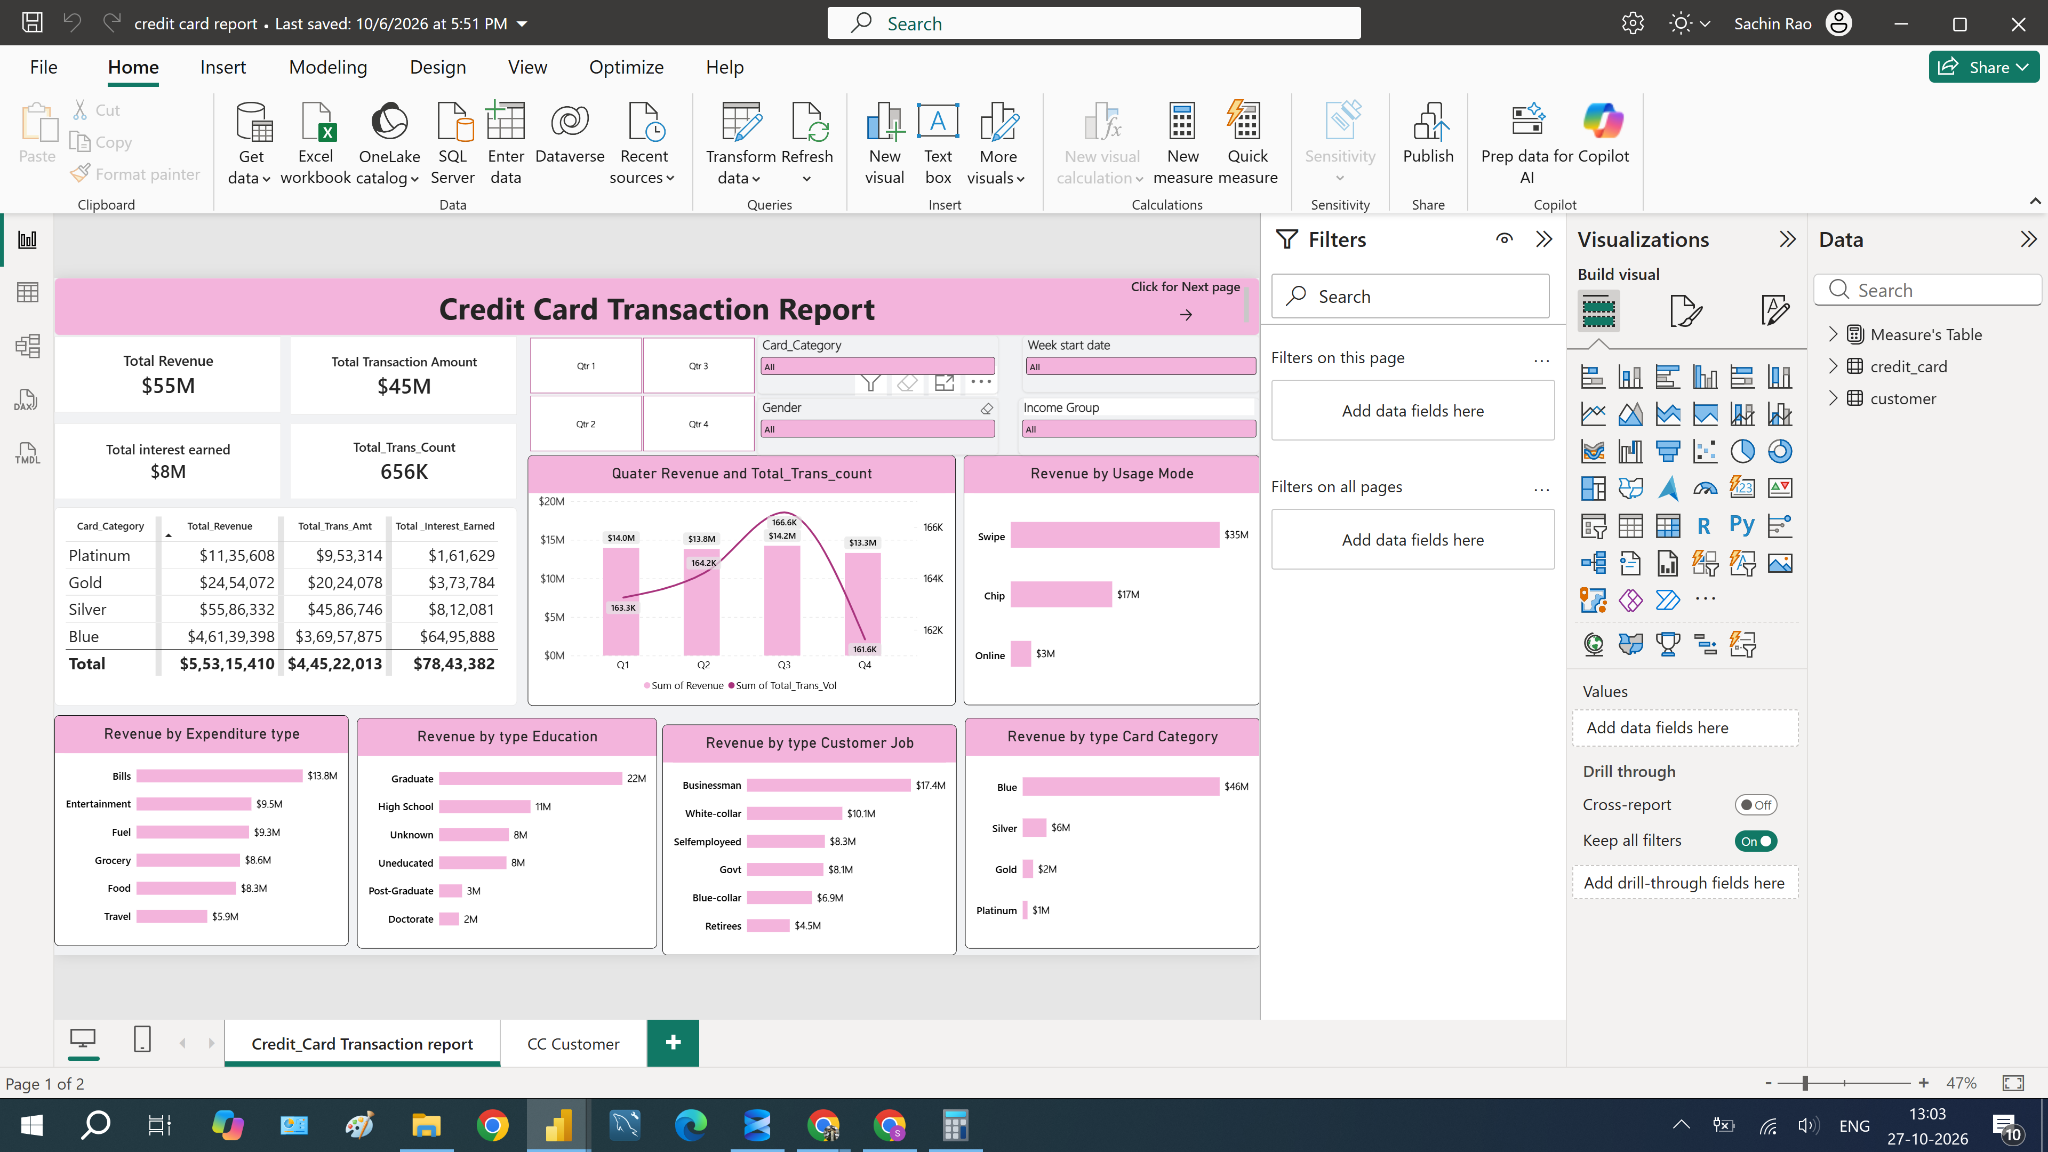

This screenshot's page, from the dashboard's own definition file:
{"tool":"powerbi","page":{"name":"Credit_Card Transaction report","canvas":[1920,1080],"ordinal":0},"visuals":[{"type":"textbox","box":[0,0,1920.5,91.8],"z":0},{"type":"group","id":"g1","title":"Group 7","box":[1120.1,191.3,800.4,91.3],"z":0,"group":"g7"},{"type":"cardVisual","title":"Total Revenue","fields":{"Data":["Sum(credit_card.Interest_Earned)"]},"box":[0,231.6,361,121],"z":0,"group":"g5"},{"type":"barChart","title":"Revenue by Expenditure type","fields":{"Category":["credit_card.Exp Type"],"Y":["Sum(credit_card.Revenue)"]},"box":[0,696,468.9,367.6],"z":0,"group":"g6"},{"type":"group","id":"g2","title":"Group 6","box":[1120.1,91.3,800.4,93.5],"z":1000,"group":"g7"},{"type":"slicer","fields":{"Values":["credit_card.Card_Category"]},"box":[1120.1,91.3,385,93.5],"z":1000,"group":"g2"},{"type":"cardVisual","title":"Total Revenue","fields":{"Data":["Sum(credit_card.Revenue)"]},"box":[0,93.6,361,121],"z":1000,"group":"g4"},{"type":"lineStackedColumnComboChart","title":"Quater Revenue and  Total_Trans_count","fields":{"Category":["credit_card.Qtr"],"Y":["Sum(credit_card.Revenue)"],"Y2":["Sum(credit_card.Total_Trans_Vol)"]},"box":[754.2,282.5,681.9,399.4],"z":1000},{"type":"barChart","title":" Revenue by type Education ","fields":{"Category":["customer.Education_Level"],"Y":["Sum(credit_card.Revenue)"]},"box":[482.2,700.2,478,367.5],"z":1000,"group":"g6"},{"type":"cardVisual","fields":{"Data":["Sum(credit_card.Total_Trans_Vol)"]},"box":[376,231.6,361,121],"z":2000,"group":"g5"},{"type":"group","id":"g3","title":"Group 1","box":[0,696,1919.7,382.4],"z":2000},{"type":"barChart","title":"Revenue by type Customer Job","fields":{"Category":["customer.Customer_Job"],"Y":["Sum(credit_card.Revenue)"]},"box":[968.7,710.8,468.9,367.6],"z":2000,"group":"g6"},{"type":"cardVisual","fields":{"Data":["Sum(credit_card.Total_Trans_Amt)"]},"box":[376,93.5,361.1,125.3],"z":3000,"group":"g4"},{"type":"slicer","fields":{"Values":["customer.Income Group"]},"box":[1535.5,191.3,385,91.3],"z":3000,"group":"g1"},{"type":"barChart","title":"Revenue by Usage Mode","fields":{"Category":["credit_card.Use Chip"],"Y":["Sum(credit_card.Revenue)"]},"box":[1448.8,282.5,472,398.4],"z":3000},{"type":"barChart","title":"Revenue by type Card Category","fields":{"Category":["credit_card.Card_Category"],"Y":["Sum(credit_card.Revenue)"]},"box":[1449.9,700.4,469.7,367.6],"z":3000,"group":"g6"},{"type":"tableEx","fields":{"Values":["credit_card.Card_Category","Sum(credit_card.Revenue)","Sum(credit_card.Total_Trans_Amt)","Sum(credit_card.Interest_Earned)"]},"box":[0,365.4,737.2,316.5],"z":4000},{"type":"group","id":"g4","title":"Group 2","box":[0,93.5,737.2,125.3],"z":4001,"group":"g5"},{"type":"group","id":"g5","title":"Group 4","box":[0,93.5,737.2,259.2],"z":5000},{"type":"group","id":"g6","title":"Group 3","box":[0,696,1919.7,382.4],"z":5001,"group":"g3"},{"type":"slicer","fields":{"Values":["credit_card.Corrected date's.Variation.Date Hierarchy.Quarter"]},"box":[737.2,93.5,397.3,184.8],"z":6000},{"type":"group","id":"g7","title":"Group 5","box":[1120.1,91.3,800.4,191.4],"z":7000},{"type":"textbox","box":[0,692,737,317],"z":7001},{"type":"actionButton","title":"Click for Next page","box":[1684.6,0,235.8,91.3],"z":7002},{"type":"slicer","fields":{"Values":["credit_card.Corrected date's"]},"box":[1542,91.3,378.4,91.3],"z":8000,"group":"g2"},{"type":"slicer","fields":{"Values":["customer.Gender"]},"box":[1120.1,191.3,385,91.3],"z":9000,"group":"g1"}]}

Visuals, with their boxes on the page's 1920x1080 design canvas (x1, y1, x2, y2). These are canvas units, not pixel positions in the 2048x1152 screenshot, which may show the page scaled, cropped or inside an application window:
textbox: Rect(0, 0, 1920, 92)
"Group 7" group: Rect(1120, 191, 1920, 283)
"Total Revenue" cardVisual: Rect(0, 232, 361, 353)
"Revenue by Expenditure type" barChart: Rect(0, 696, 469, 1064)
"Group 6" group: Rect(1120, 91, 1920, 185)
slicer - credit_card.Card_Category: Rect(1120, 91, 1505, 185)
"Total Revenue" cardVisual: Rect(0, 94, 361, 215)
"Quater Revenue and  Total_Trans_count" lineStackedColumnComboChart: Rect(754, 282, 1436, 682)
" Revenue by type Education " barChart: Rect(482, 700, 960, 1068)
cardVisual - Sum(credit_card.Total_Trans_Vol): Rect(376, 232, 737, 353)
"Group 1" group: Rect(0, 696, 1920, 1078)
"Revenue by type Customer Job" barChart: Rect(969, 711, 1438, 1078)
cardVisual - Sum(credit_card.Total_Trans_Amt): Rect(376, 94, 737, 219)
slicer - customer.Income Group: Rect(1536, 191, 1920, 283)
"Revenue by Usage Mode" barChart: Rect(1449, 282, 1921, 681)
"Revenue by type Card Category" barChart: Rect(1450, 700, 1920, 1068)
tableEx - credit_card.Card_Category x Sum(credit_card.Revenue): Rect(0, 365, 737, 682)
"Group 2" group: Rect(0, 94, 737, 219)
"Group 4" group: Rect(0, 94, 737, 353)
"Group 3" group: Rect(0, 696, 1920, 1078)
slicer - credit_card.Corrected date's.Variation.Date Hierarchy.Quarter: Rect(737, 94, 1134, 278)
"Group 5" group: Rect(1120, 91, 1920, 283)
textbox: Rect(0, 692, 737, 1009)
"Click for Next page" actionButton: Rect(1685, 0, 1920, 91)
slicer - credit_card.Corrected date's: Rect(1542, 91, 1920, 183)
slicer - customer.Gender: Rect(1120, 191, 1505, 283)
